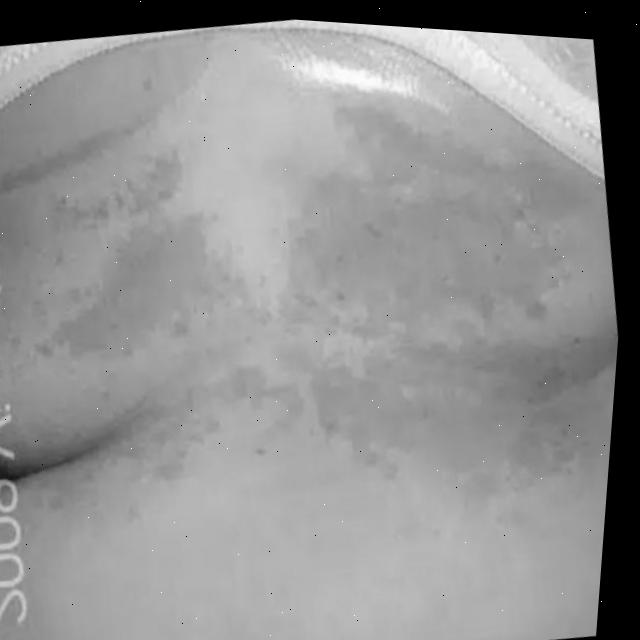Eczema: (26, 77, 585, 535)
